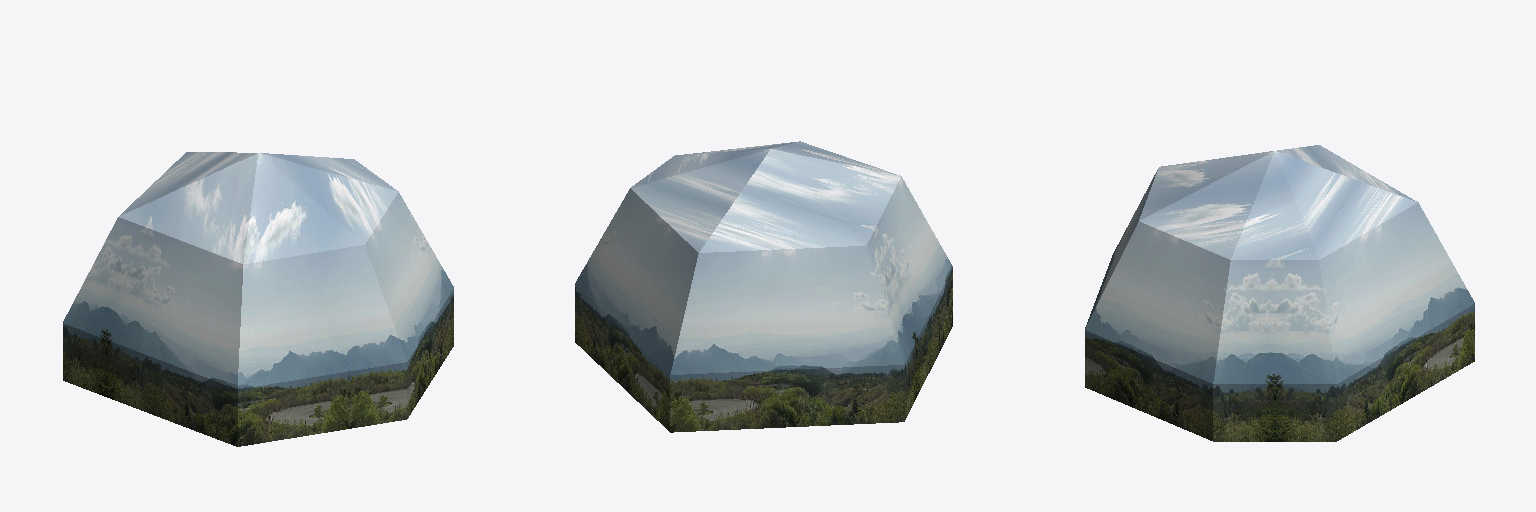
3 renders of one model, left to right at view 1: azimuth 30°, elevation 25°; view 2: azimuth 150°, elevation 25°; view 3: azimuth 270°, elevation 25°, orthographic.
Visible parts, largest first — view 1: pSphere12; view 2: pSphere12; view 3: pSphere12.
Boxes of the visible parts, <box> form: pSphere12: <box>63,152,453,446</box>; pSphere12: <box>575,141,952,432</box>; pSphere12: <box>1085,145,1474,441</box>.
Size of the model in its own units: 123 by 74.63 by 126.
25 materials, 15 textured.